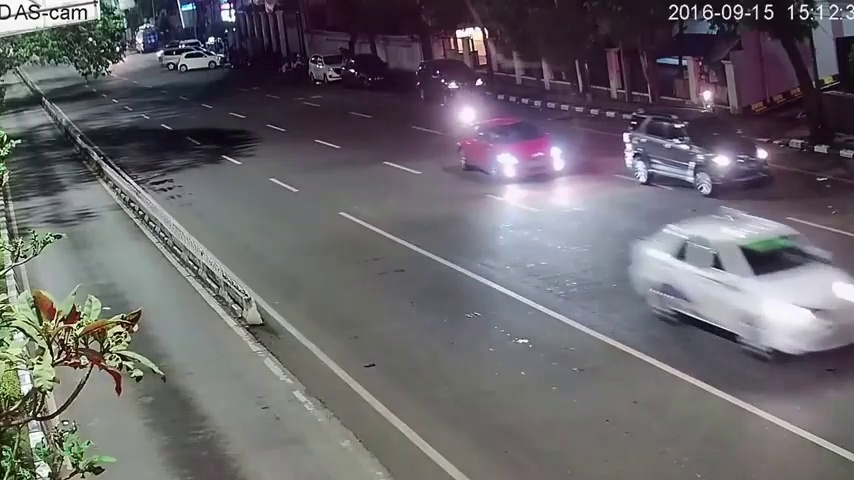car: (624, 206, 854, 365), (624, 108, 772, 197), (457, 117, 569, 184), (417, 60, 486, 106), (343, 51, 392, 86), (310, 52, 350, 86), (180, 51, 227, 72)
motorbike: (696, 73, 718, 116)
